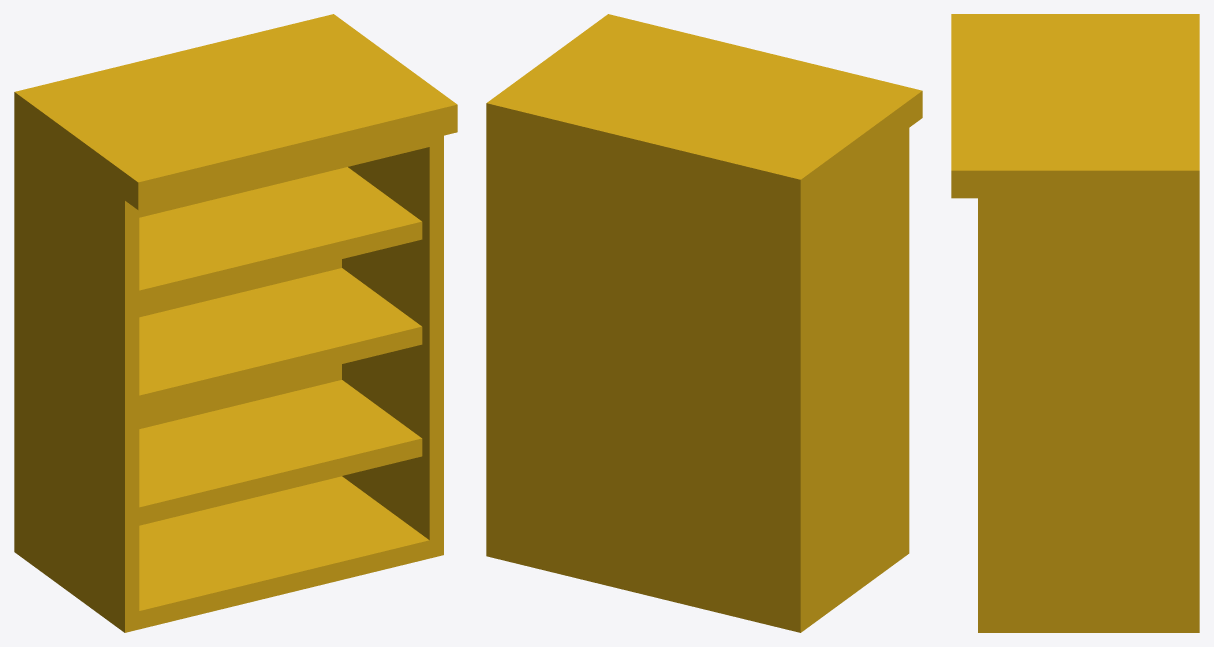
File: CTS_E_CabinetWallB.fbx
3 renders of one model, left to right at view 1: azimuth 30°, elevation 25°; view 2: azimuth 150°, elevation 25°; view 3: azimuth 270°, elevation 25°, orthographic. The views are drawn at different scales.
Parts seen in each view (by area): view 1: CTS_E_CabinetWallB; view 2: CTS_E_CabinetWallB; view 3: CTS_E_CabinetWallB.
Boxes of the visible parts, <box> form: CTS_E_CabinetWallB: <box>14,14,457,632</box>; CTS_E_CabinetWallB: <box>486,14,922,632</box>; CTS_E_CabinetWallB: <box>951,14,1199,632</box>.
Bounding box in the file's own units: 98.13 × 135 × 65.86.
